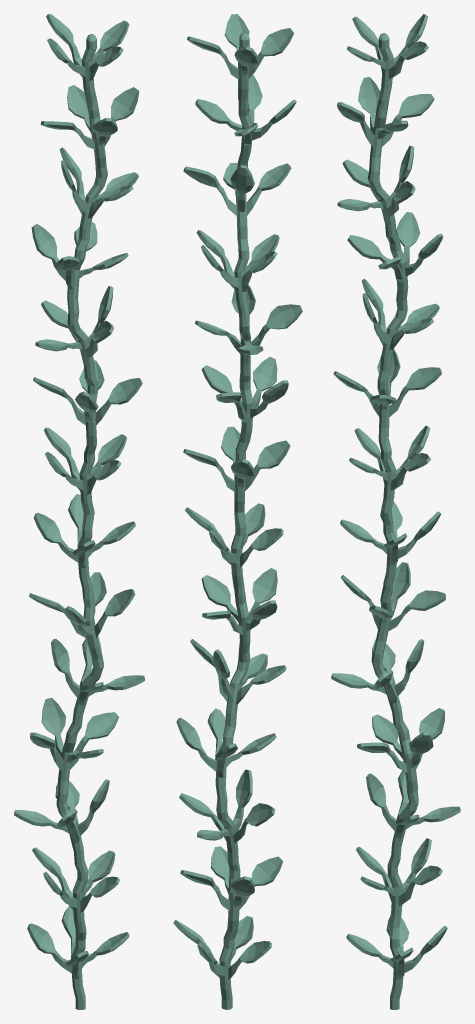
Rendered from kelp4.glb.
The picture shows the model from 3 angles, left to right: view 1: azimuth 90°, elevation 25°; view 2: azimuth 150°, elevation 25°; view 3: azimuth 270°, elevation 25°; orthographic projection.
Visible parts, largest first — view 1: Object_7; view 2: Object_7; view 3: Object_7.
Part boxes in pixels (x1,y1,x2,y2): Object_7: (14,14,144,1009); Object_7: (173,14,302,1009); Object_7: (331,14,460,1009).
Bounding box in the file's own units: 16.75 × 143 × 17.18.
